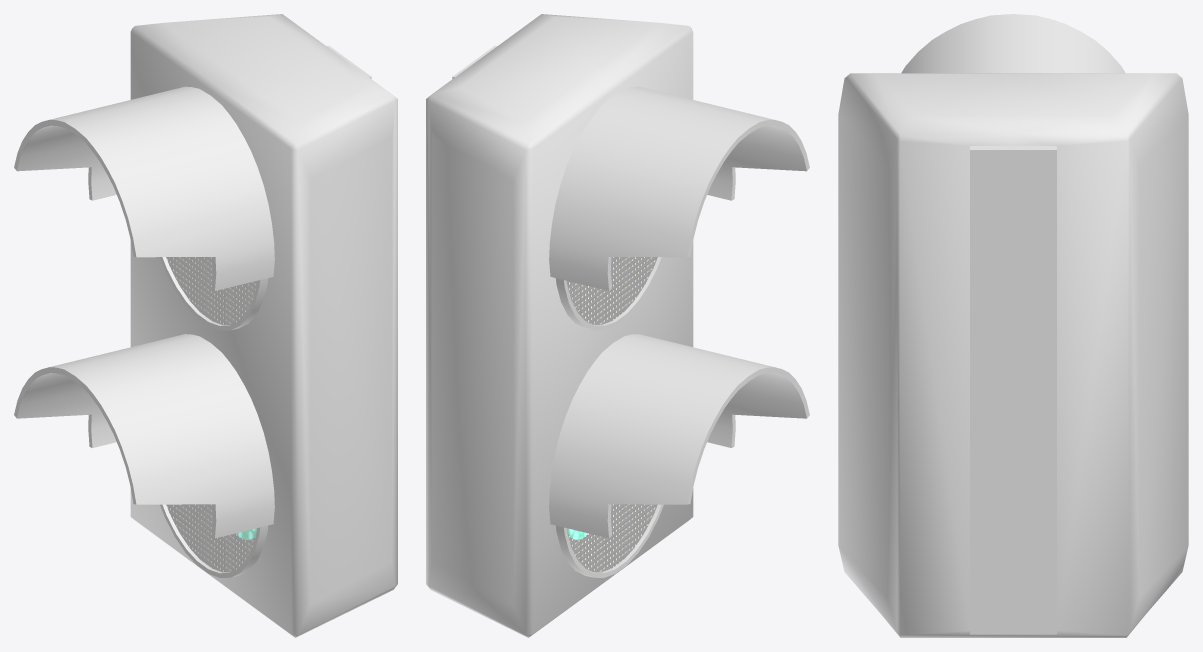
The model's file is 单车指示灯_GreenLight.glb.
The picture shows the model from 3 angles, left to right: view 1: azimuth 30°, elevation 25°; view 2: azimuth 150°, elevation 25°; view 3: azimuth 270°, elevation 25°; orthographic projection.
Parts seen in each view (by area): view 1: 单车指示灯_GreenLight; view 2: 单车指示灯_GreenLight; view 3: 单车指示灯_GreenLight.
Part boxes in pixels (x1=…): 单车指示灯_GreenLight: x1=14, y1=14, x2=397, y2=637; 单车指示灯_GreenLight: x1=426, y1=14, x2=809, y2=637; 单车指示灯_GreenLight: x1=838, y1=14, x2=1188, y2=637.
Size of the model in its own units: 0.6001 by 1.06 by 0.65.
3 materials, 2 textured.
